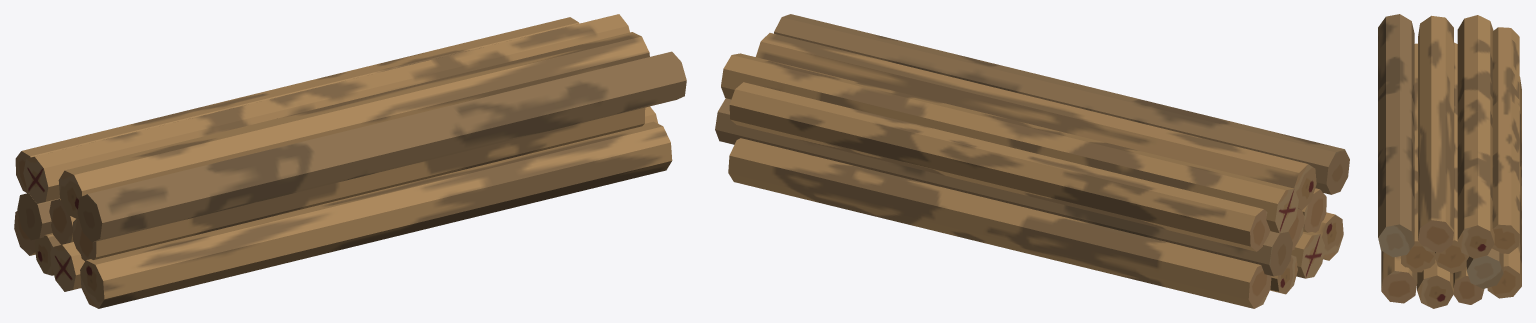
Rendered from SK_Veh_Truck_Trailer_01_Logs_01.fbx.
3 renders of one model, left to right at view 1: azimuth 30°, elevation 25°; view 2: azimuth 150°, elevation 25°; view 3: azimuth 270°, elevation 25°, orthographic. The views are drawn at different scales.
Visible parts, largest first — view 1: SK_Veh_Truck_Trailer_01_Logs_01; view 2: SK_Veh_Truck_Trailer_01_Logs_01; view 3: SK_Veh_Truck_Trailer_01_Logs_01.
Part boxes in pixels (x1,y1,x2,y2): SK_Veh_Truck_Trailer_01_Logs_01: [14, 14, 686, 308]; SK_Veh_Truck_Trailer_01_Logs_01: [715, 14, 1349, 308]; SK_Veh_Truck_Trailer_01_Logs_01: [1378, 14, 1521, 308].
Bounding box in the file's own units: 961 × 184 × 278.
